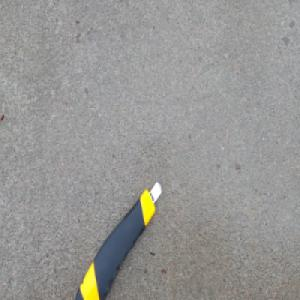Cutter: (72, 179, 162, 299)
